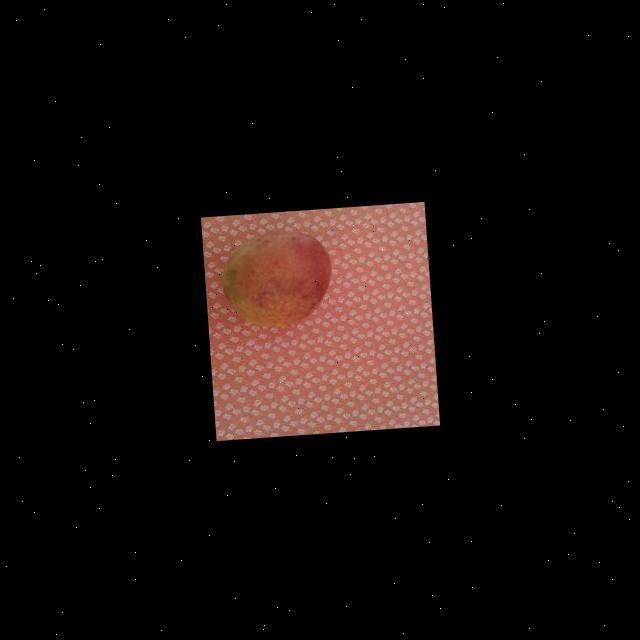Mango: (218, 228, 336, 332)
